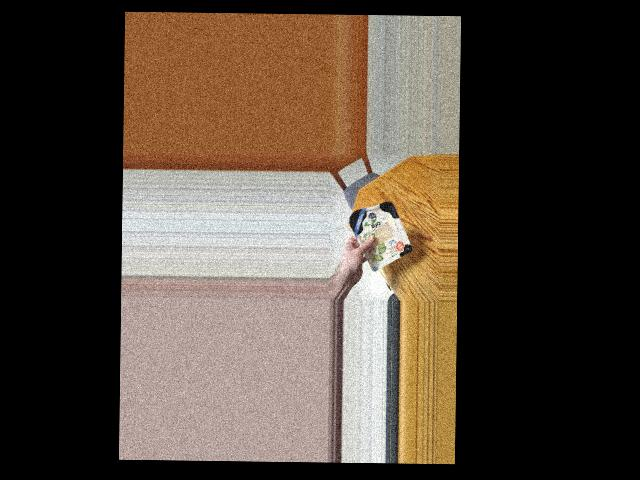cheese: (344, 200, 409, 264)
